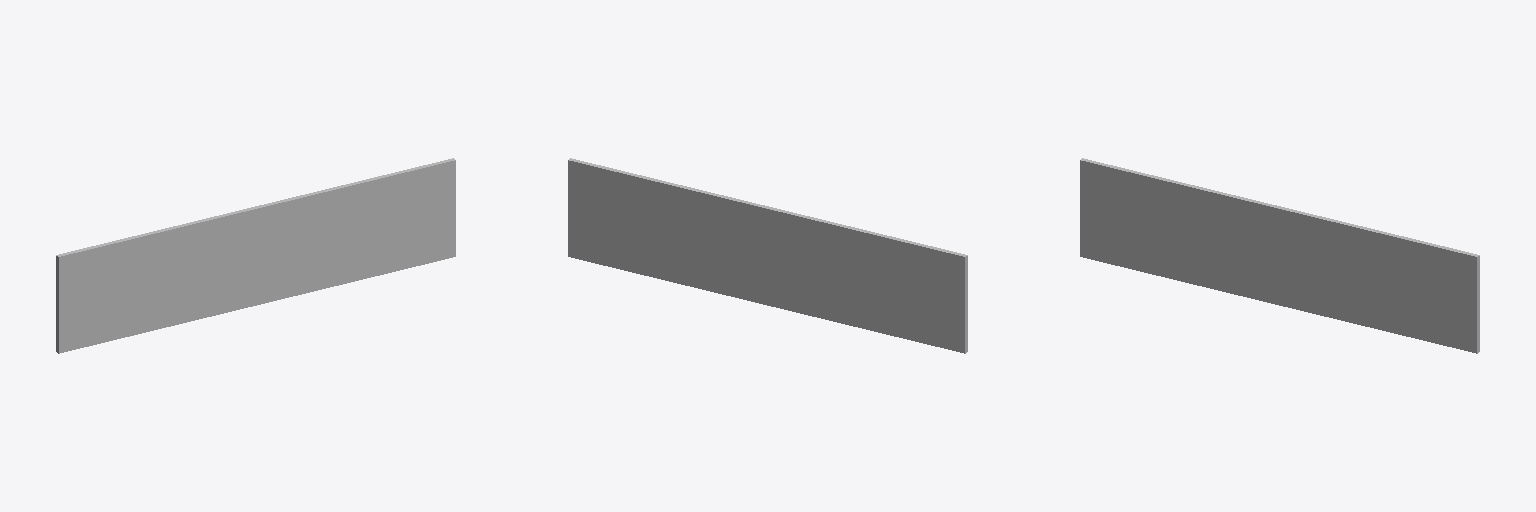
The model's file is 02_wall_insides_2X.obj.
The picture shows the model from 3 angles: view 1: azimuth 30°, elevation 25°; view 2: azimuth 150°, elevation 25°; view 3: azimuth 330°, elevation 25°; orthographic projection.
Bounding box in the file's own units: 86 × 20 × 1.